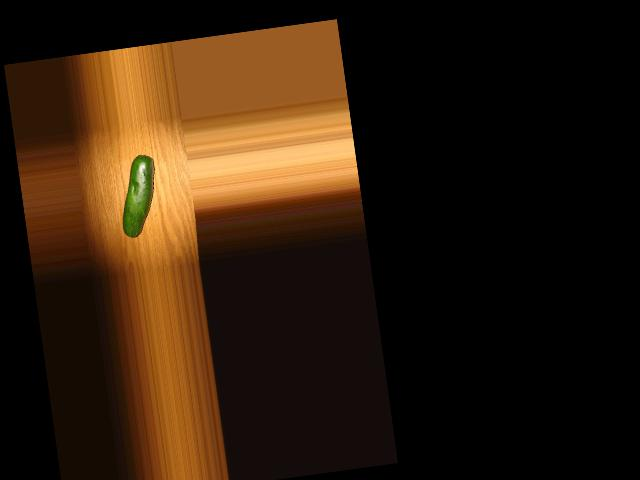cucumber: (114, 154, 163, 239)
